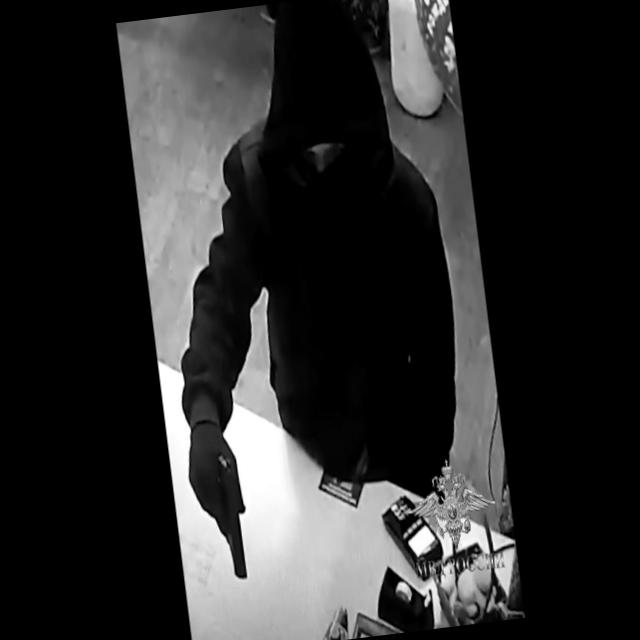gun: (183, 409, 258, 585)
person with a gun: (133, 0, 480, 587)
